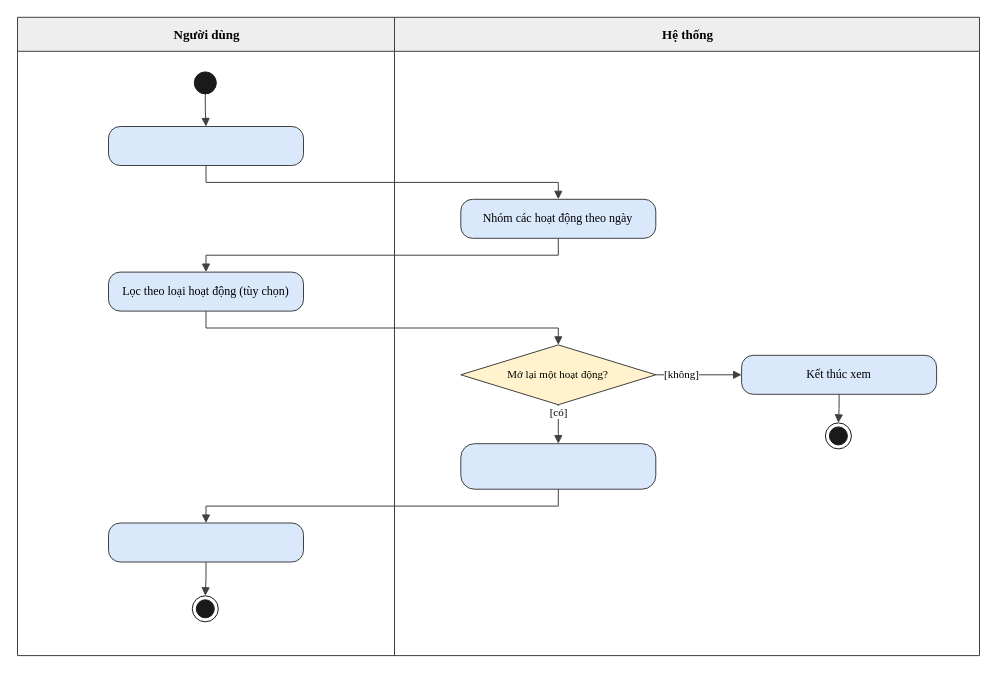
The diagram is 997 pixels wide and 674 high, and some of its shapes have lost their labels. The centre of each missing label's shape, as x and y in pixels:
Chuyển tới màn tương ứng, mở lại kết quả trong khung chat: the point at 558,466
Mở màn Lịch sử hoạt động: the point at 206,146
Xem lại nội dung: the point at 206,542
